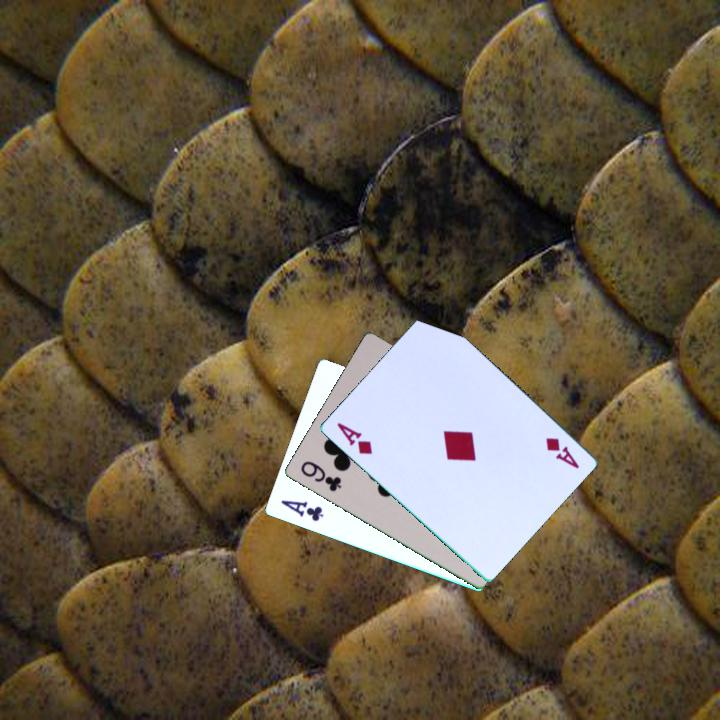9c: (297, 457, 344, 495)
Ac: (277, 497, 326, 525)
Ad: (333, 419, 375, 458), (541, 434, 582, 472)
